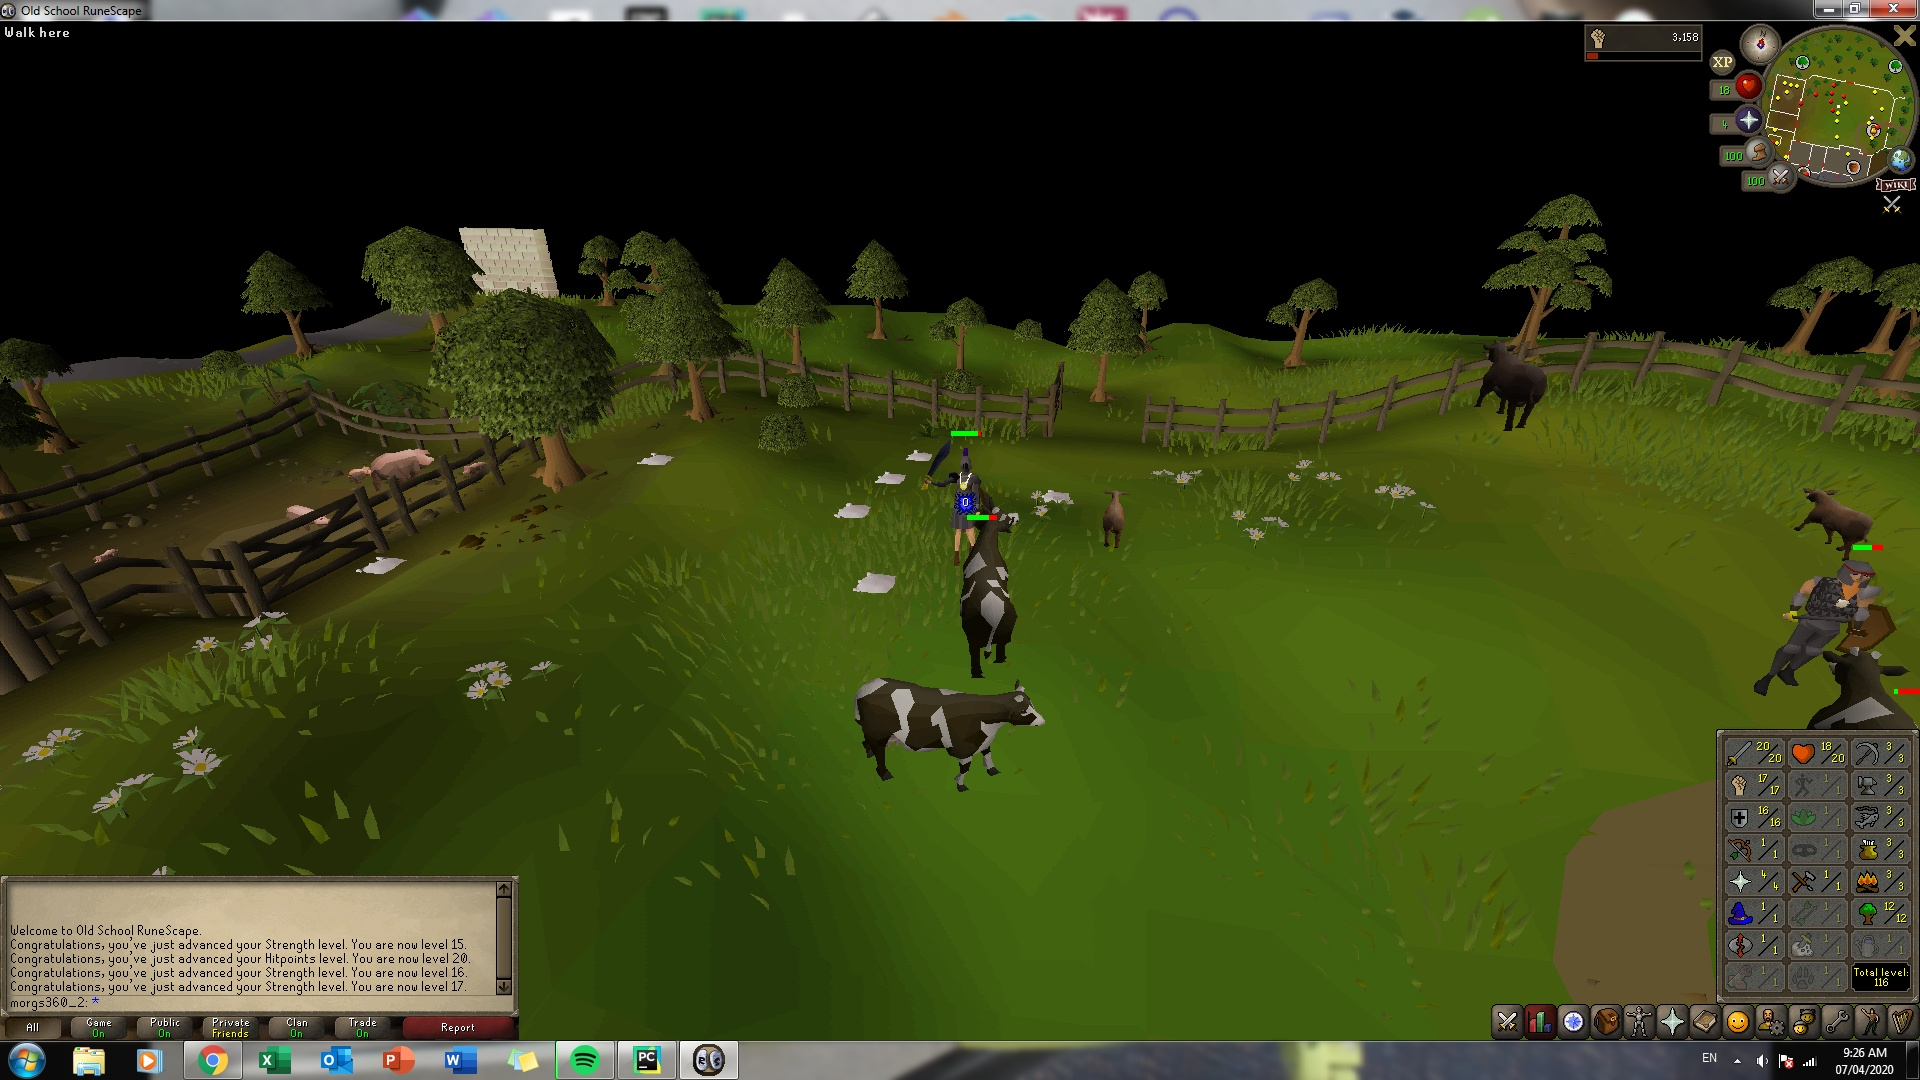cow: (854, 671, 1045, 791), (954, 511, 1019, 677), (1800, 639, 1916, 726), (1475, 340, 1550, 435), (1789, 485, 1878, 563), (1099, 484, 1126, 549)
player: (943, 447, 983, 544)
